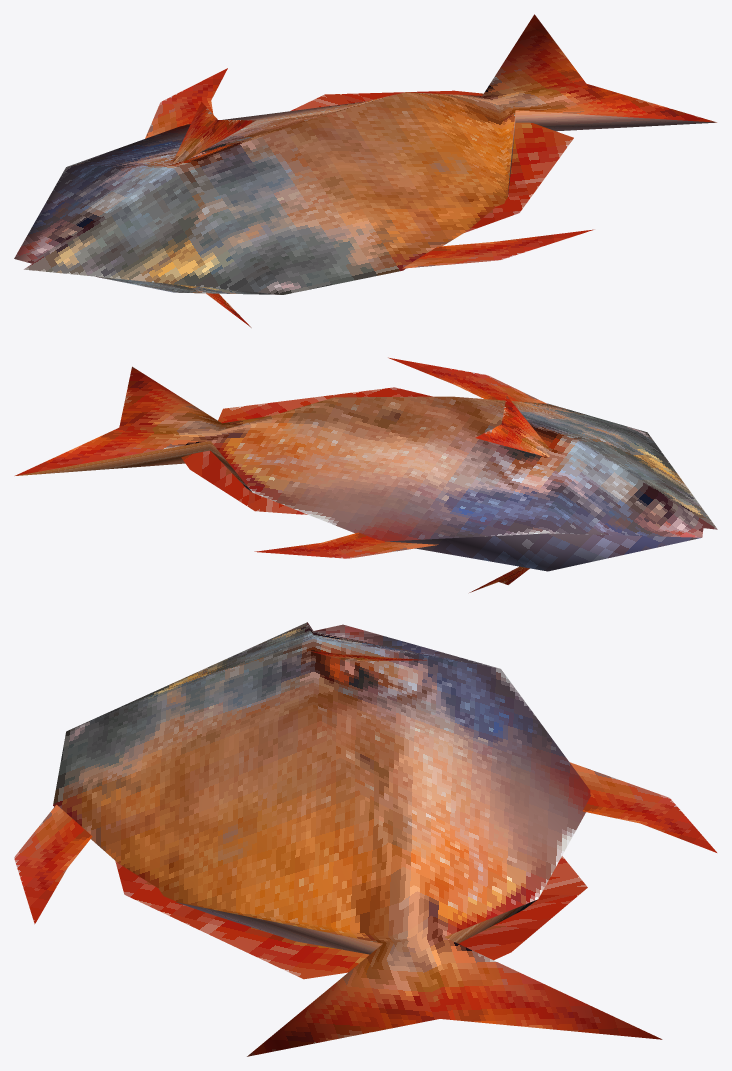
The model's file is Fisky1.glb.
3 renders of one model, top to bottom at view 1: azimuth 30°, elevation 25°; view 2: azimuth 150°, elevation 25°; view 3: azimuth 270°, elevation 25°, orthographic. The views are drawn at different scales.
Parts seen in each view (by area): view 1: Fisk1; view 2: Fisk1; view 3: Fisk1.
Boxes of the visible parts, left/top/right/bottom form: Fisk1: left=14, top=14, right=716, bottom=327; Fisk1: left=15, top=357, right=717, bottom=592; Fisk1: left=14, top=622, right=716, bottom=1056.
Bounding box in the file's own units: 4.38 × 1.3 × 3.
Materials: 1 (1 with a texture image).
